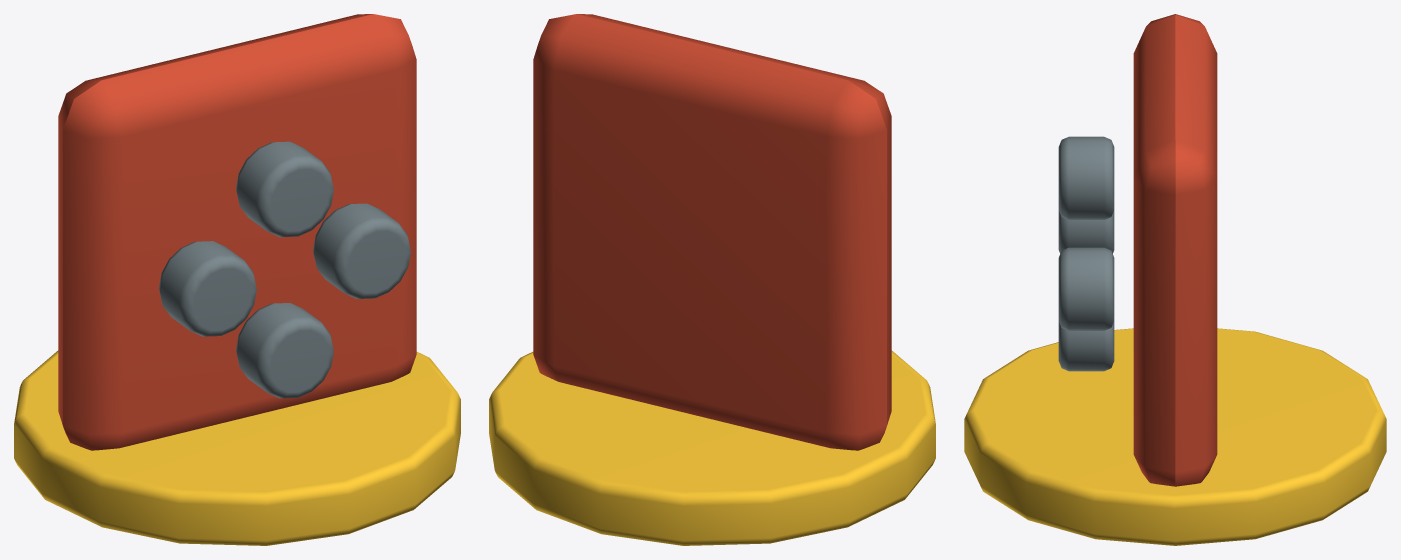
File: COM-POWER-04.glb
3 renders of one model, left to right at view 1: azimuth 30°, elevation 25°; view 2: azimuth 150°, elevation 25°; view 3: azimuth 270°, elevation 25°, orthographic. The views are drawn at different scales.
Visible parts, largest first — view 1: badge, base, bore.002, bore, bore.001, bore.003; view 2: badge, base; view 3: base, badge, bore, bore.001, bore.003, bore.002.
Boxes of the visible parts, x1,y1,x2,y2 form: badge: (58, 14, 416, 450); base: (14, 350, 460, 545); bore.002: (159, 241, 256, 336); bore: (313, 203, 410, 298); bore.001: (236, 141, 333, 237); bore.003: (236, 303, 333, 398); badge: (533, 14, 891, 450); base: (489, 350, 935, 545); base: (964, 328, 1386, 545); badge: (1133, 14, 1217, 486); bore: (1058, 247, 1114, 330); bore.001: (1058, 136, 1114, 219); bore.003: (1058, 321, 1114, 371); bore.002: (1058, 210, 1114, 253).
Bounding box in the file's own units: 0.76 × 0.76 × 0.76.
